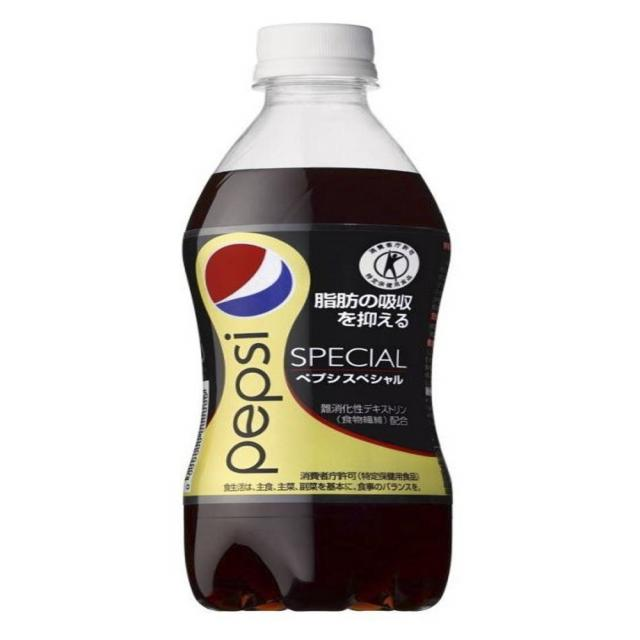bottle-plastic: (171, 12, 461, 616)
